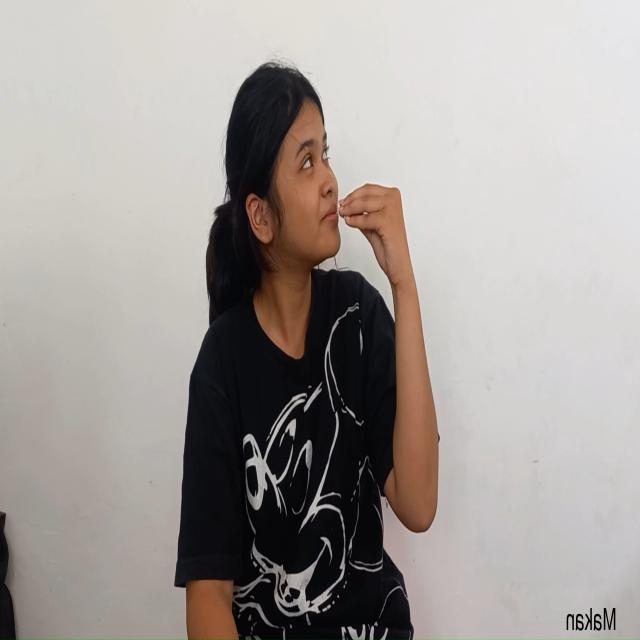Makan -BISINDO-: (249, 56, 424, 412)
